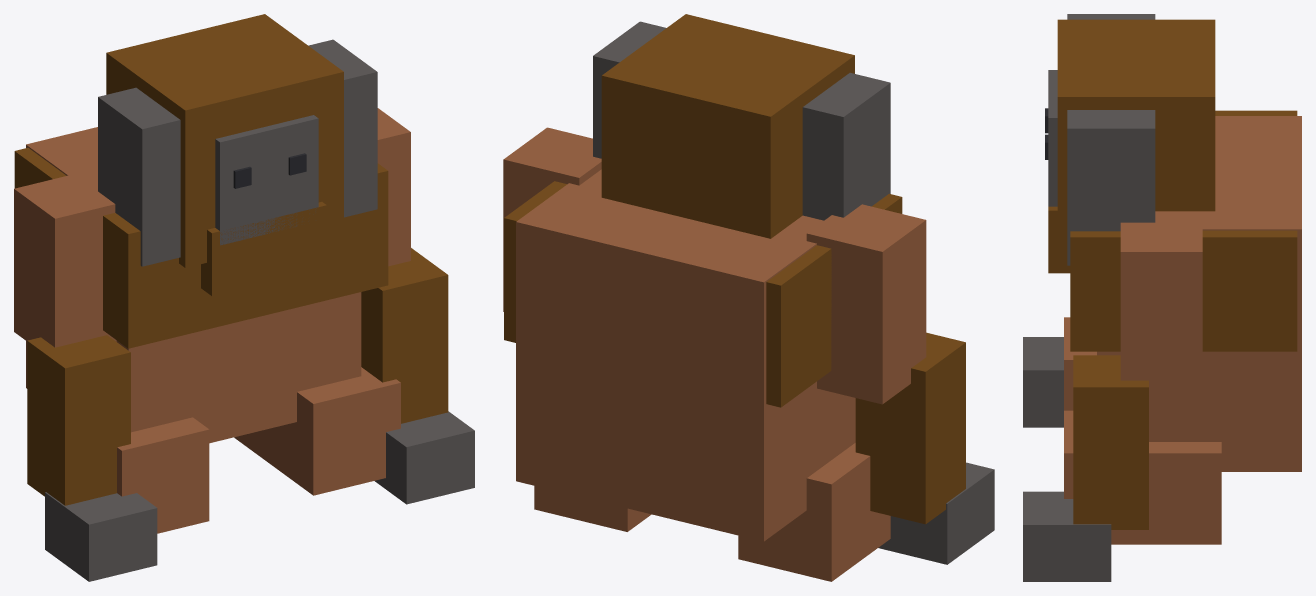
File: orangutan_kalimantan.glb
3 views of the same model, side by side, from view 1: azimuth 30°, elevation 25°; view 2: azimuth 150°, elevation 25°; view 3: azimuth 270°, elevation 25° (orthographic). The views are drawn at different scales.
Parts seen in each view (by area): view 1: orangutan_kalimantan; view 2: orangutan_kalimantan; view 3: orangutan_kalimantan.
Boxes of the visible parts, x1,y1,x2,y2 form: orangutan_kalimantan: (14,14,474,581); orangutan_kalimantan: (503,14,994,581); orangutan_kalimantan: (1023,14,1301,581).
Size of the model in its own units: 1.41 by 1.5 by 0.885.
